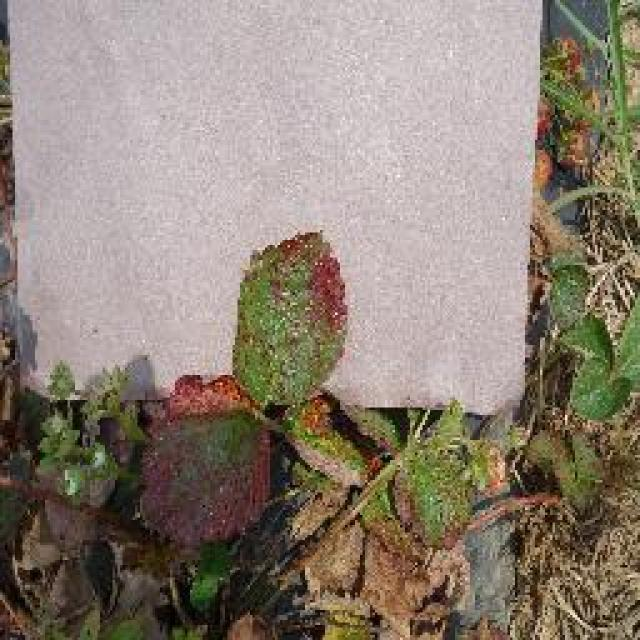Strawberry leaf scorch: (153, 412, 265, 526)
